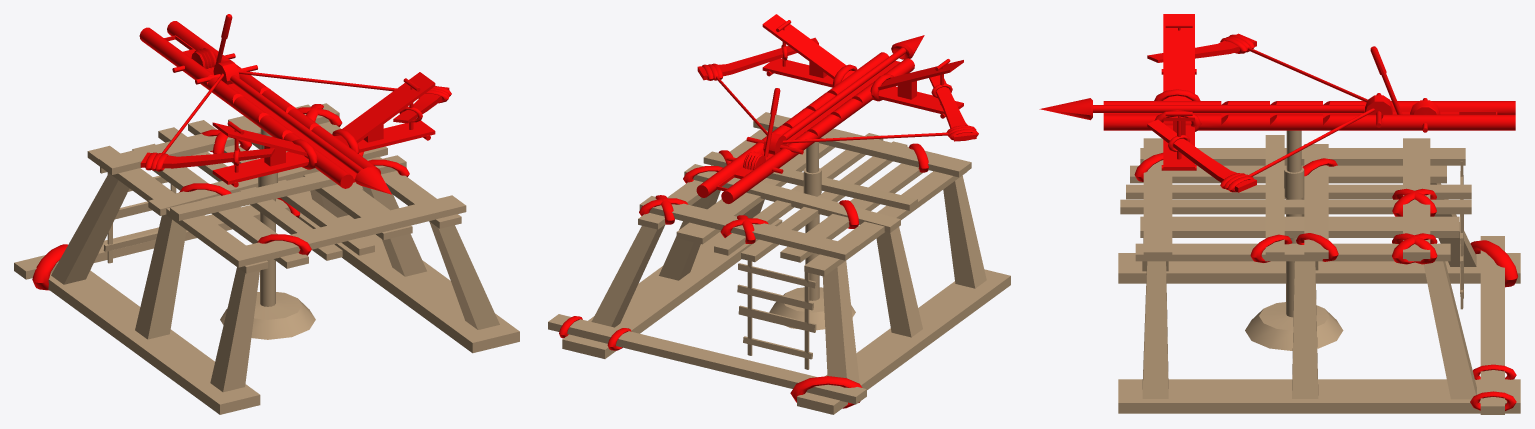
Rendered from Ballista_Attack-shifted.fbx.
3 views of the same model, side by side, from view 1: azimuth 30°, elevation 25°; view 2: azimuth 150°, elevation 25°; view 3: azimuth 270°, elevation 25° (orthographic). The views are drawn at different scales.
Visible parts, largest first — view 1: Ballista_Attack; view 2: Ballista_Attack; view 3: Ballista_Attack.
Boxes of the visible parts, x1,y1,x2,y2 form: Ballista_Attack: (14, 14, 519, 414); Ballista_Attack: (548, 14, 1010, 414); Ballista_Attack: (1039, 14, 1520, 414).
Bounding box in the file's own units: 76 × 60.19 × 89.84.
